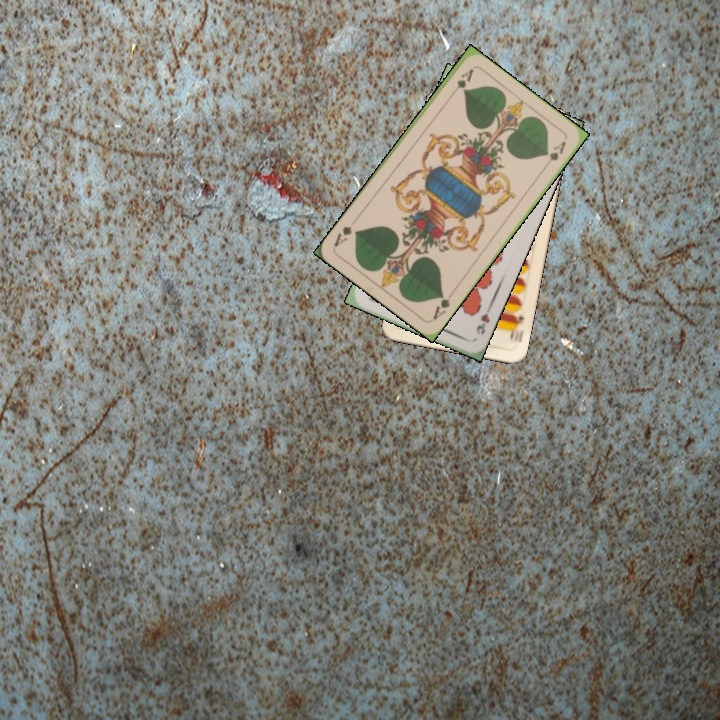E10: (506, 311, 527, 345)
GA: (446, 65, 476, 100), (428, 287, 457, 323)
H9: (472, 303, 493, 337)
